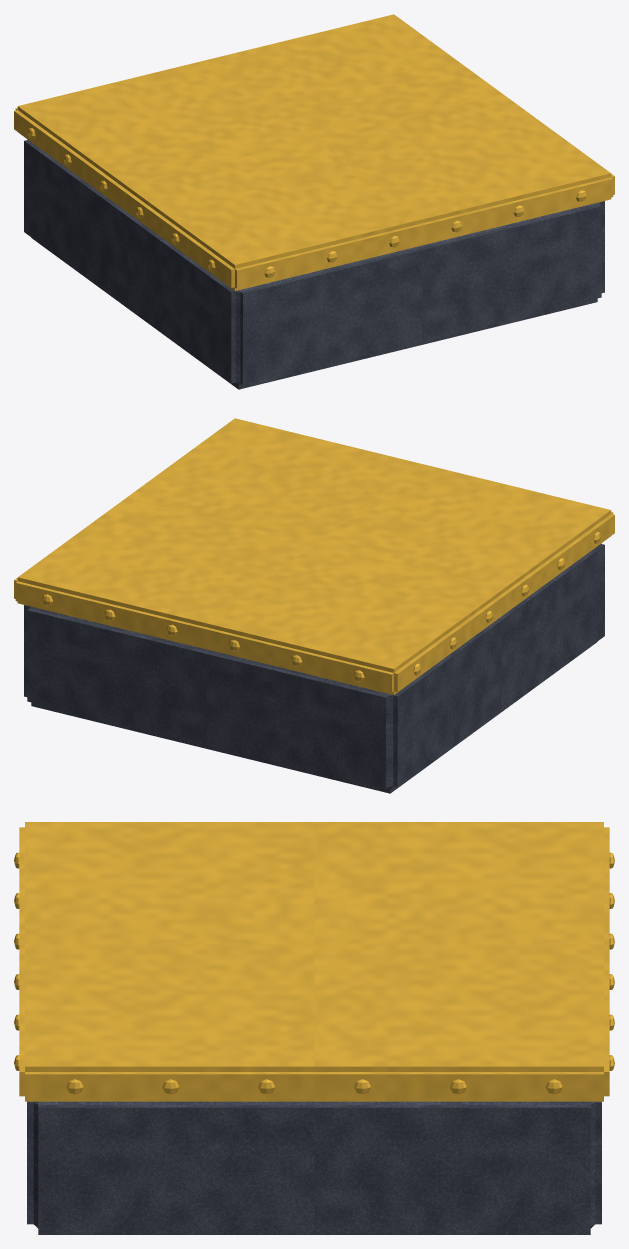
File: Kit_Base_Indestructible.fbx
3 views of the same model, one above another, from view 1: azimuth 30°, elevation 25°; view 2: azimuth 150°, elevation 25°; view 3: azimuth 270°, elevation 25° (orthographic). The views are drawn at different scales.
Visible parts, largest first — view 1: Kit_Base_Indestructible_LOD0; view 2: Kit_Base_Indestructible_LOD0; view 3: Kit_Base_Indestructible_LOD0.
Part boxes in pixels (<box>): Kit_Base_Indestructible_LOD0: <box>14,14,614,389</box>; Kit_Base_Indestructible_LOD0: <box>14,418,614,793</box>; Kit_Base_Indestructible_LOD0: <box>14,822,614,1234</box>.
Size of what is drawn, in the model's own units: 3.14 by 1 by 3.14.
Materials: 2 (2 with a texture image).
